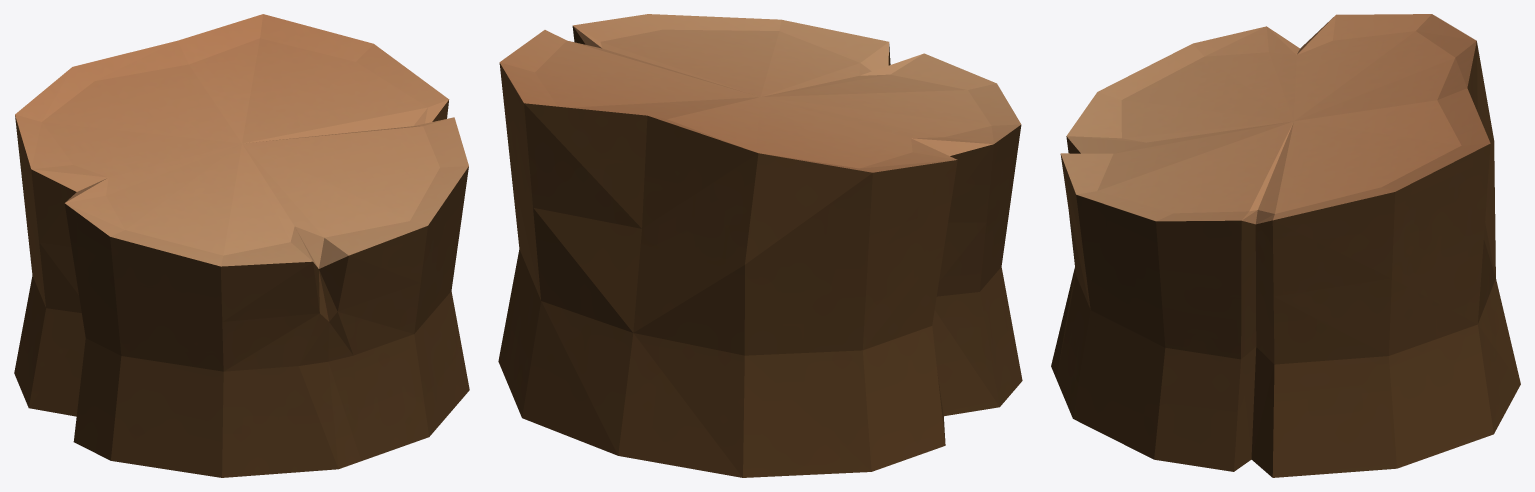
The model's file is Stump.fbx.
3 renders of one model, left to right at view 1: azimuth 30°, elevation 25°; view 2: azimuth 150°, elevation 25°; view 3: azimuth 270°, elevation 25°, orthographic. The views are drawn at different scales.
Parts seen in each view (by area): view 1: Stump; view 2: Stump; view 3: Stump.
Part boxes in pixels (left/top/right/bottom): Stump: left=14, top=14, right=469, bottom=477; Stump: left=498, top=14, right=1022, bottom=477; Stump: left=1051, top=14, right=1520, bottom=477.
Size of the model in its own units: 0.6245 by 0.4263 by 0.6135.
1 material, 1 textured.
